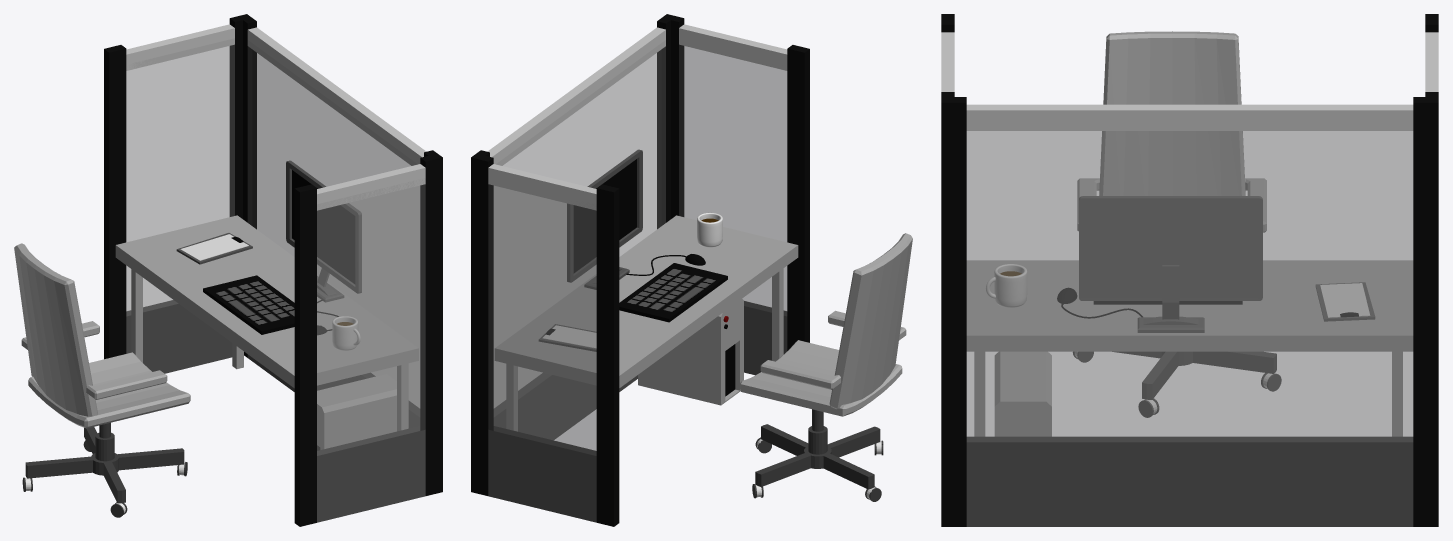
Rendered from kit bureau 2.fbx.
3 renders of one model, left to right at view 1: azimuth 30°, elevation 25°; view 2: azimuth 150°, elevation 25°; view 3: azimuth 270°, elevation 25°, orthographic. The views are drawn at different scales.
Visible parts, largest first — view 1: cloture_3, cloture_2, cloture_1, bureau, chaise_bureau, pc, porte_feuille, tasse; view 2: cloture_2, cloture_1, cloture_3, bureau, chaise_bureau, pc, porte_feuille, tasse; view 3: cloture_1, bureau, pc, chaise_bureau, cloture_3, cloture_2, porte_feuille, tasse.
Boxes of the visible parts, box(x1,y1,x2,y2) form: cloture_3: box(294, 154, 442, 526); cloture_2: box(104, 14, 252, 373); cloture_1: box(238, 14, 442, 491); bureau: box(115, 215, 418, 431); chaise_bureau: box(14, 243, 190, 517); pc: box(203, 160, 396, 450); porte_feuille: box(176, 233, 252, 264); tasse: box(332, 316, 360, 350); cloture_2: box(471, 155, 619, 526); cloture_1: box(471, 14, 675, 469); cloture_3: box(661, 15, 809, 375); bureau: box(494, 215, 798, 431); chaise_bureau: box(740, 233, 912, 501); pc: box(567, 149, 743, 405); porte_feuille: box(538, 324, 596, 351); tasse: box(697, 212, 722, 247); cloture_1: box(941, 97, 1438, 526); bureau: box(966, 260, 1413, 436); pc: box(994, 196, 1262, 436); chaise_bureau: box(1073, 31, 1281, 417); cloture_3: box(941, 14, 954, 526); cloture_2: box(1425, 14, 1438, 526); porte_feuille: box(1315, 282, 1375, 321); tasse: box(986, 264, 1027, 307).
Size of the model in its own units: 2.61 by 2.64 by 2.79.
18 materials, 1 textured.
